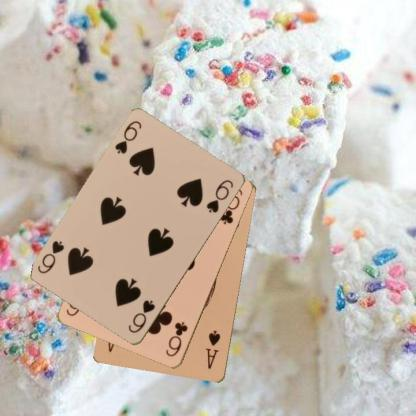6c: (163, 319, 189, 358)
6s: (112, 118, 143, 156), (126, 298, 156, 335)
As: (204, 328, 222, 371)
